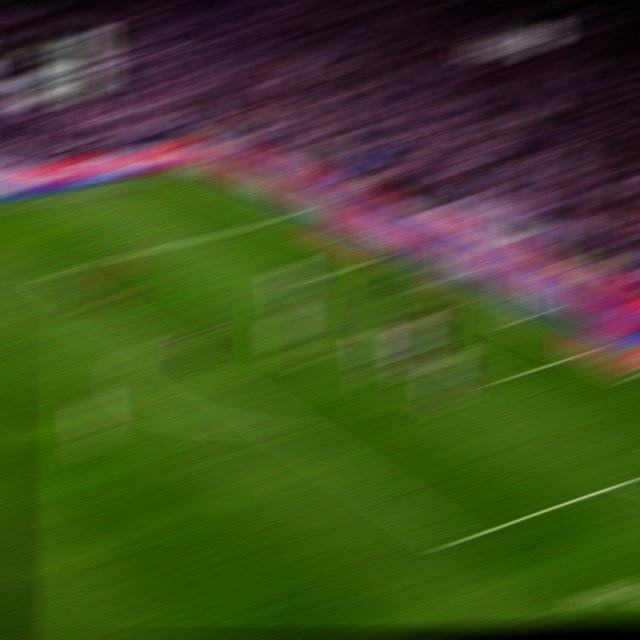bigarea_bottom_inner: (440, 527, 472, 555)
bigarea_top_inner: (34, 266, 61, 280)
bigarea_top_outter: (270, 212, 294, 220)
bottom_arc_area_intersection: (270, 417, 300, 436)
corner: (171, 169, 200, 175)
smallarea_top_inner: (296, 277, 318, 284)
top_arc_area_intersection: (130, 329, 160, 341)
